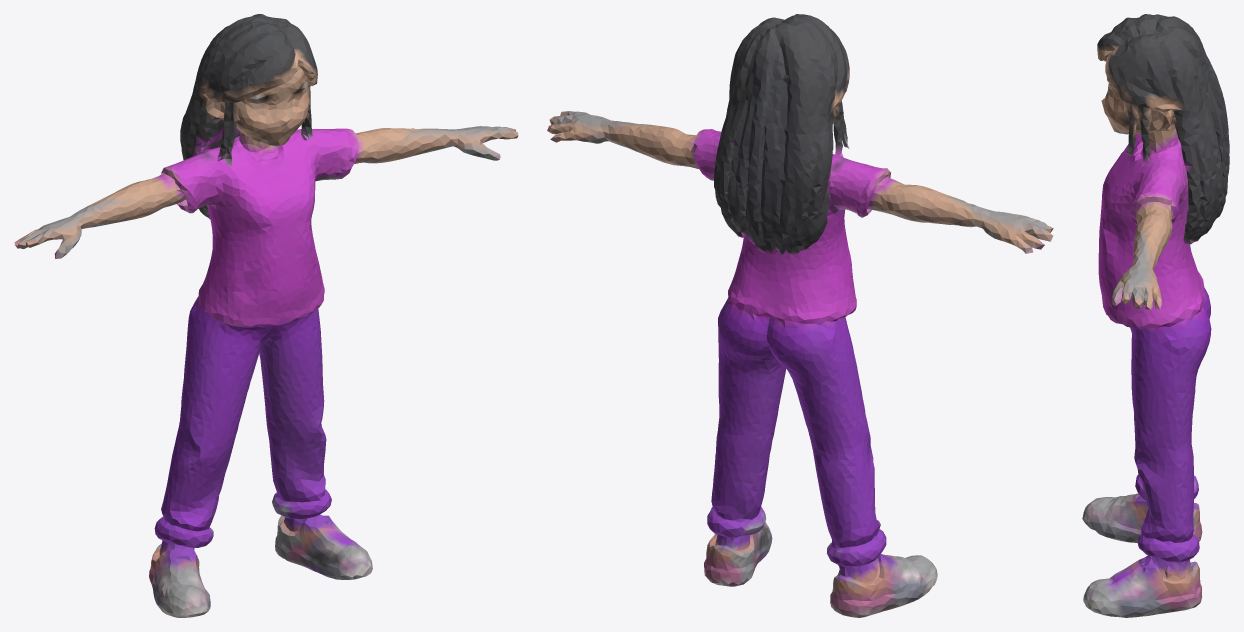
Rendered from kid.glb.
3 views of the same model, side by side, from view 1: azimuth 30°, elevation 25°; view 2: azimuth 150°, elevation 25°; view 3: azimuth 270°, elevation 25° (orthographic).
Visible parts, largest first — view 1: geometry_0; view 2: geometry_0; view 3: geometry_0.
Boxes of the visible parts, x1,y1,x2,y2 form: geometry_0: [14, 14, 518, 617]; geometry_0: [547, 14, 1053, 617]; geometry_0: [1082, 14, 1229, 617].
Bounding box in the file's own units: 0.9359 × 1 × 0.238.
